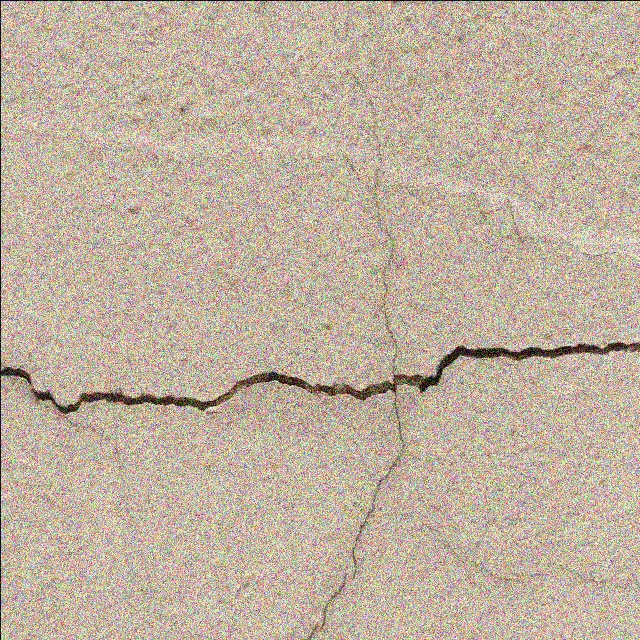SurfaceCrack: (0, 321, 446, 435)
